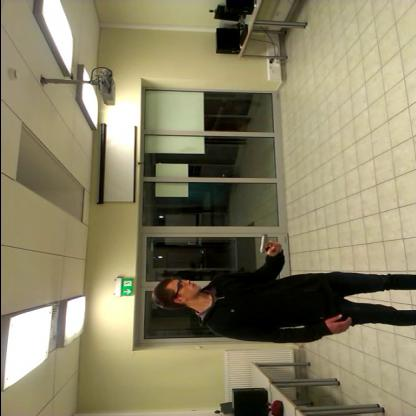Pistol: (251, 232, 283, 258)
